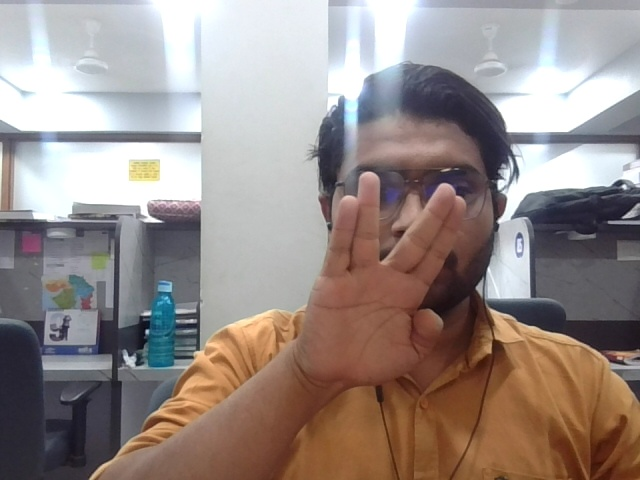LiveLong: (318, 170, 460, 387)
